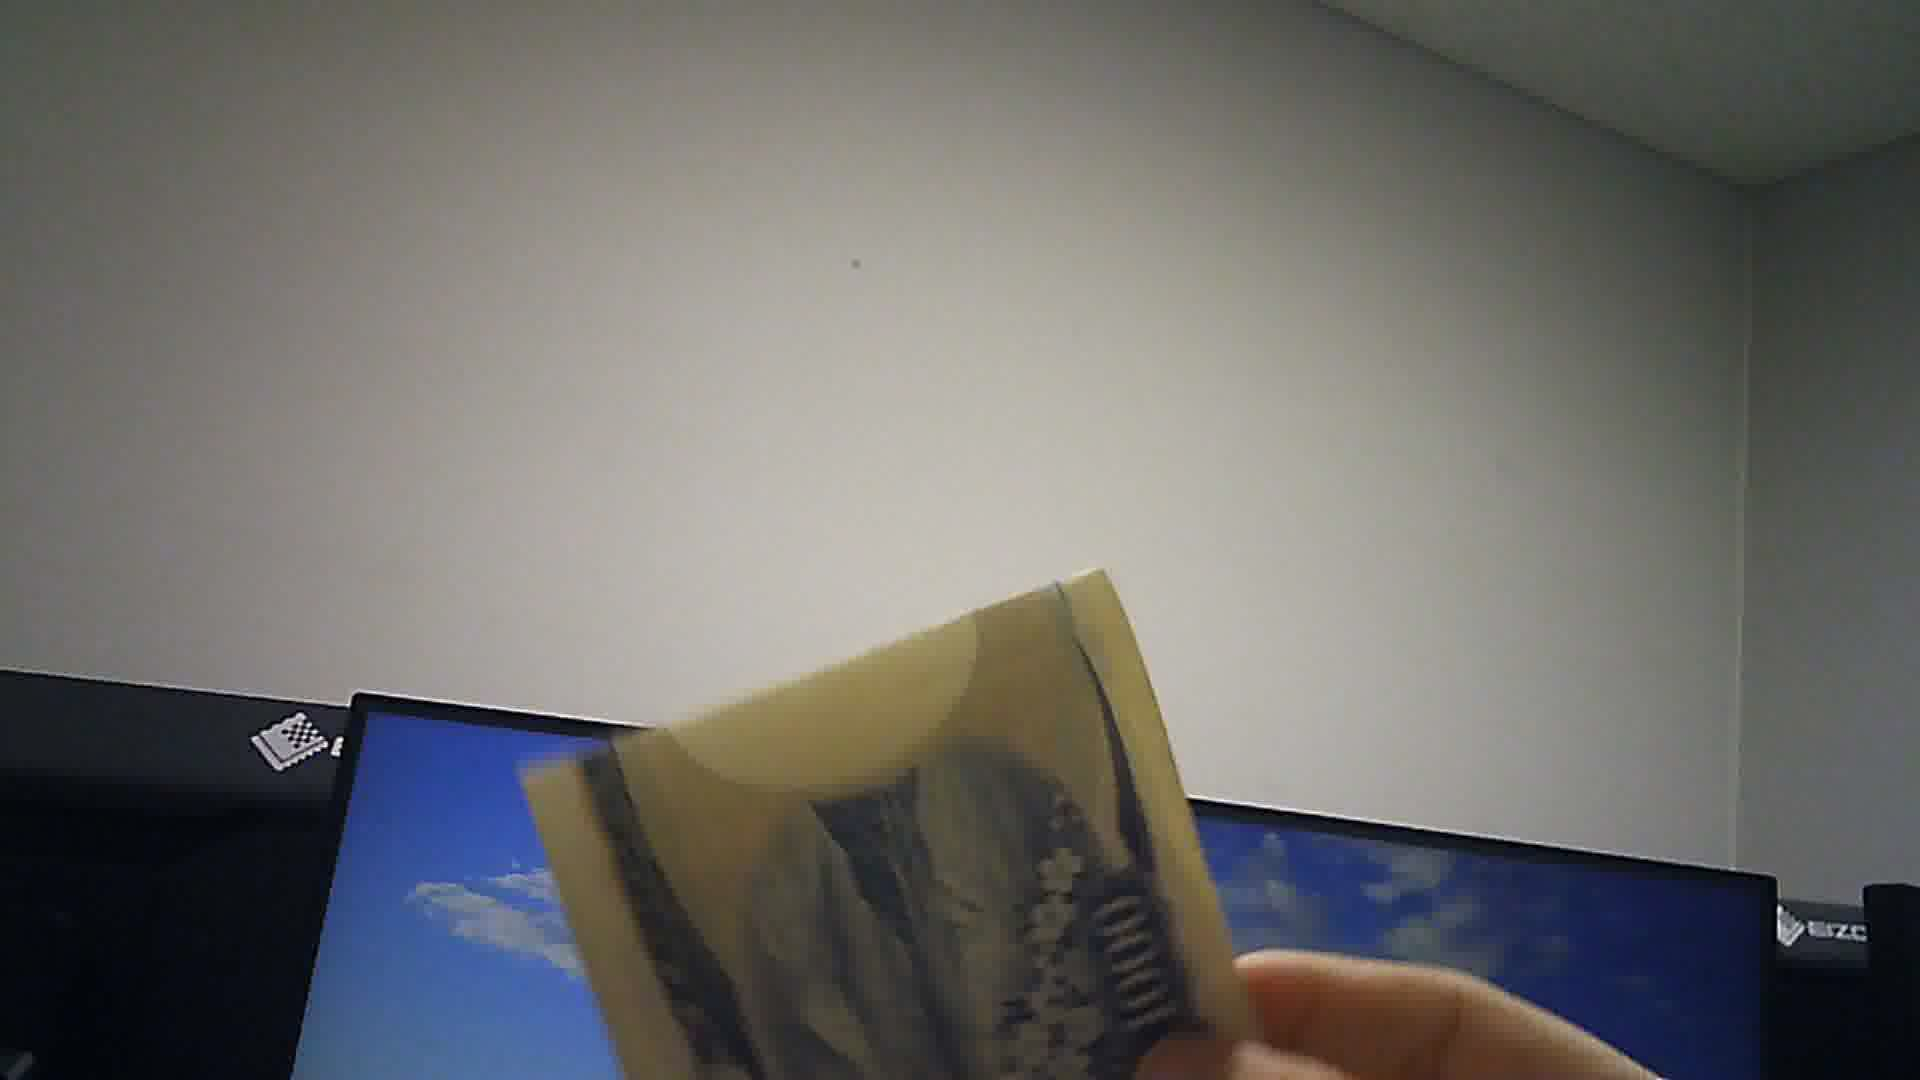1,000 Yen: (520, 543, 1203, 1079)
